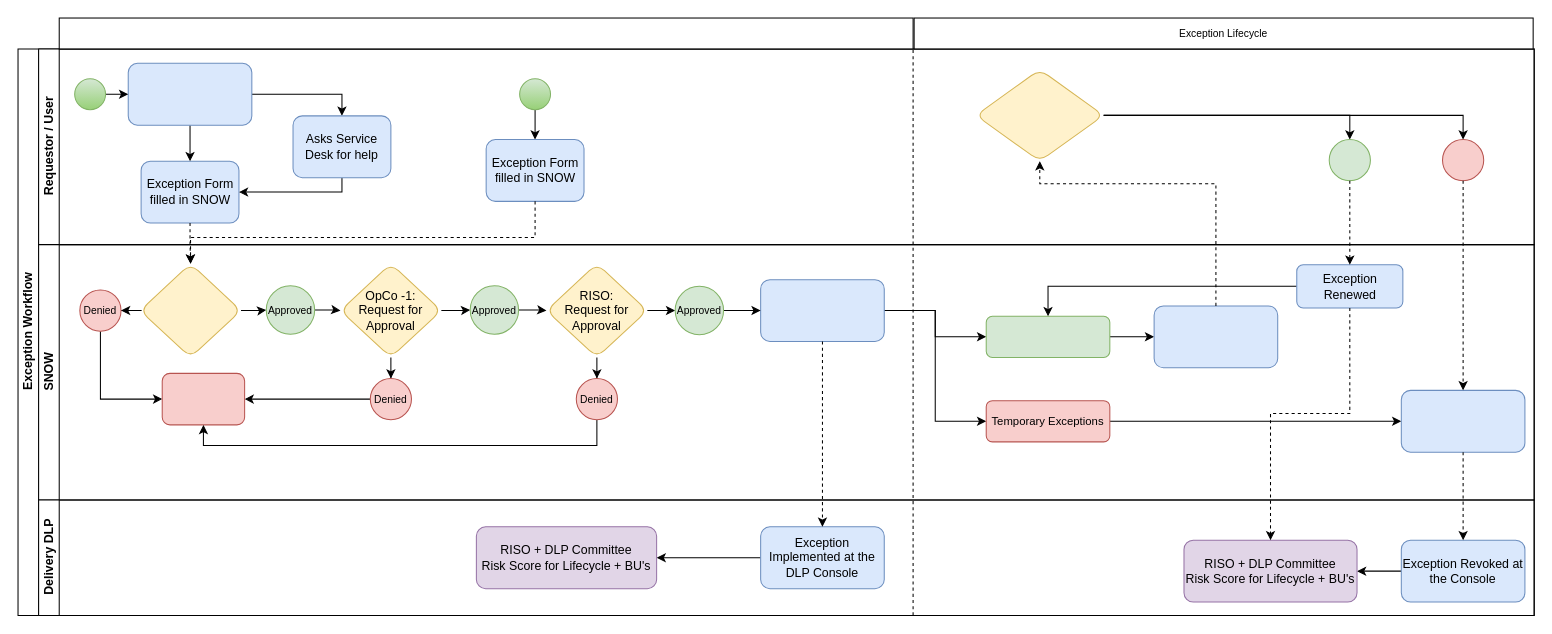
This 1552x634 diagram has some shape labels left out. Here are the shapes that lost their labels. From the top down, the centre of each, then its label:
At [485,33]: "New Exception".
At [189,93]: "Gets a block message from the DLP Team".
At [1039,114]: "Automated Email: Keep or revoke the exception?".
At [1349,160]: "Keep".
At [1462,160]: "Revoke".
At [190,310]: "Line Manager: Request for Approval".
At [822,310]: "Policy Exception registered at the Inventory".
At [1047,336]: "Permanent / Long Term Exceptions".
At [1215,336]: "Exception Atestation Needed".
At [203,398]: "Close Request".
At [1462,420]: "Exception status changed to Disabled on the Inventory".
